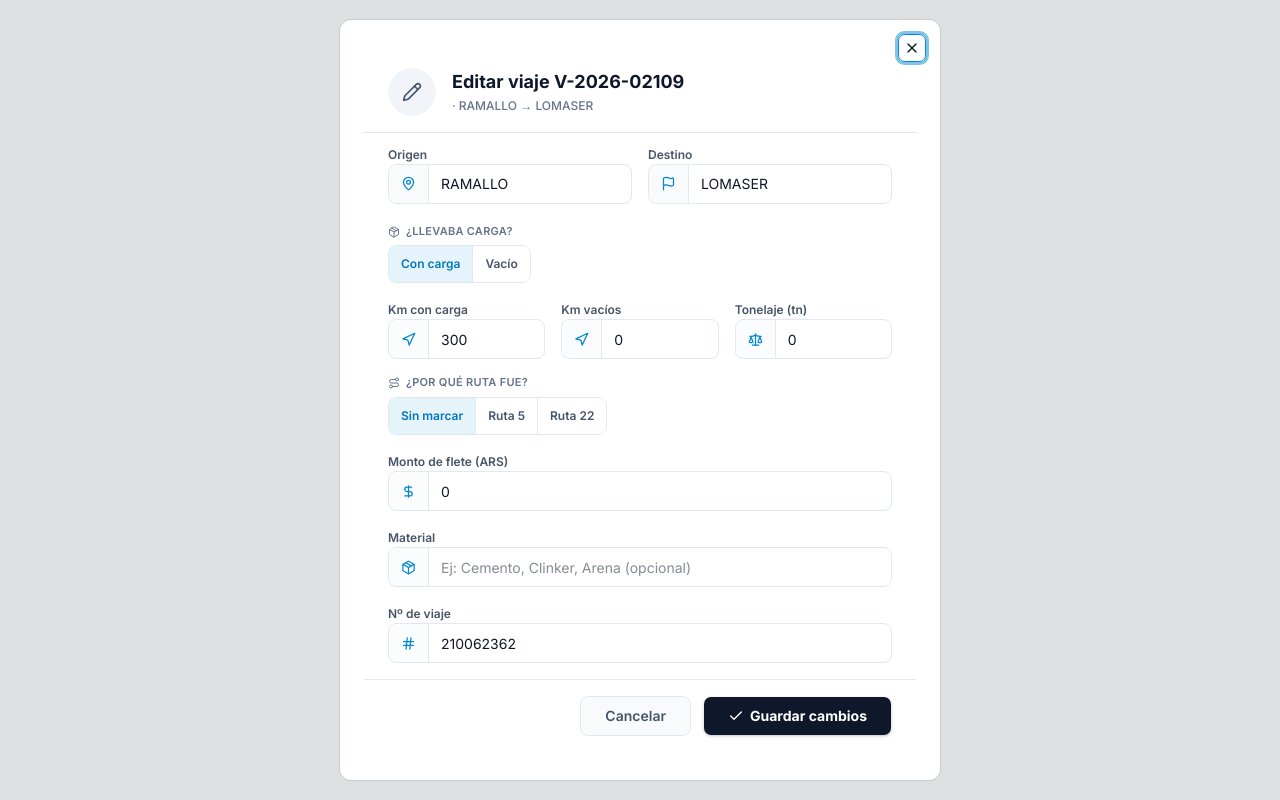
Test: EditViajeDialog — cargado vs vacío › marcar vacío mueve la distancia a km vacíos y apaga la plata
(page scrolled)
Replace the text in the number field below "Monto de flete (ARS)" with "250000" at (660,491), box [429, 472, 891, 510]
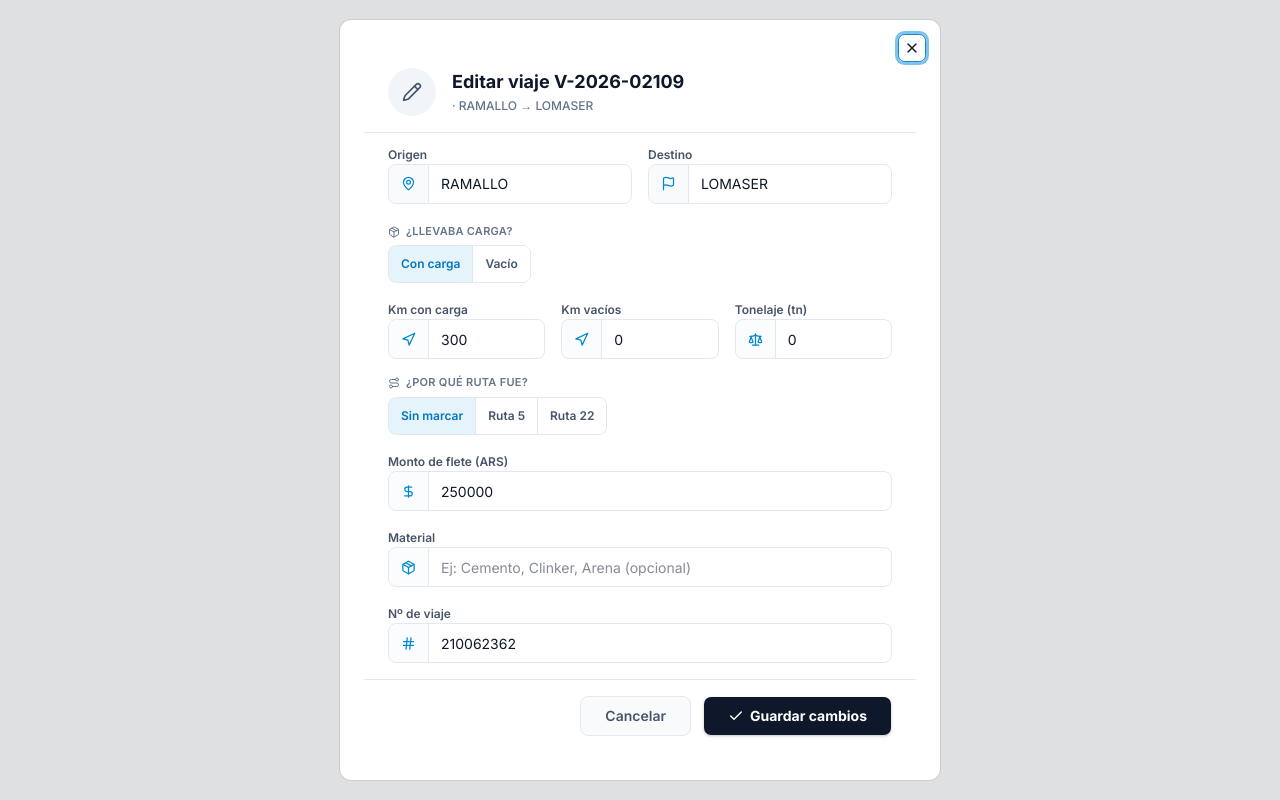
Click the button "Vacío" at (501,264), box [472, 246, 530, 282]
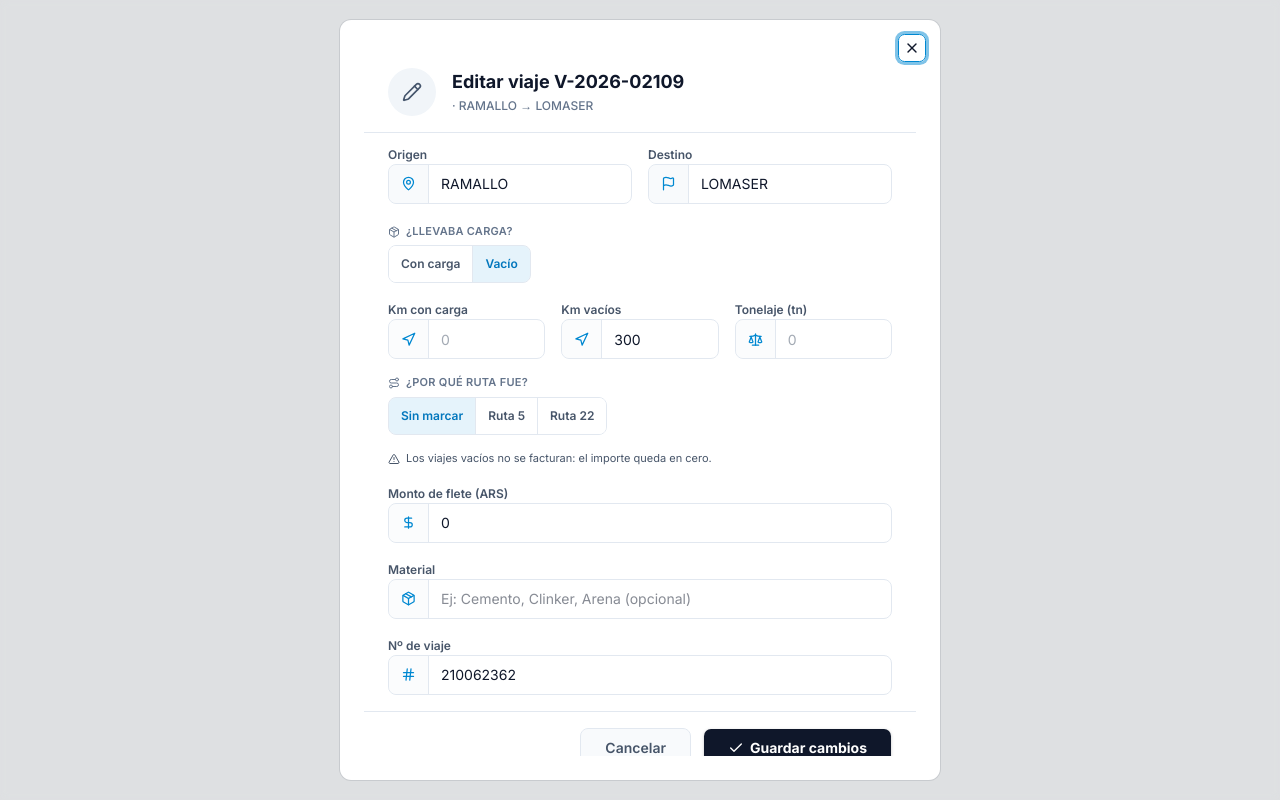
Check: the number field below "Monto de flete (ARS)" holds "0", box [429, 504, 891, 542]
Check: the text "Los viajes vacíos no se facturan: el importe queda en cero." is shown, box [388, 451, 712, 465]
